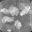people: (8, 6, 19, 17), (1, 16, 14, 24), (20, 6, 30, 16), (14, 20, 22, 29), (1, 8, 9, 15)
